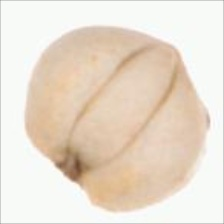L5: (66, 42, 181, 169), (45, 143, 97, 191), (157, 36, 189, 79)
L6: (19, 25, 211, 214)
